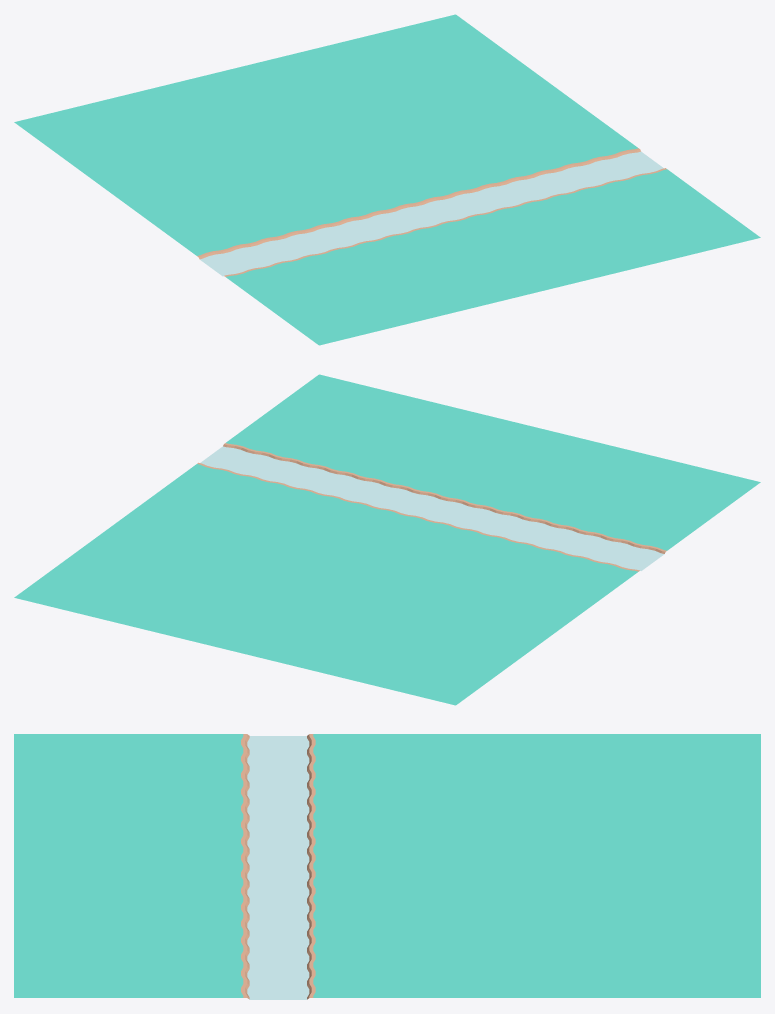
The model's file is ground_riverSide.glb.
3 views of the same model, one above another, from view 1: azimuth 30°, elevation 25°; view 2: azimuth 150°, elevation 25°; view 3: azimuth 270°, elevation 25° (orthographic). The views are drawn at different scales.
Parts seen in each view (by area): view 1: ground_riverSide; view 2: ground_riverSide; view 3: ground_riverSide.
Boxes of the visible parts, x1,y1,x2,y2 form: ground_riverSide: (14, 14, 760, 345); ground_riverSide: (14, 374, 760, 705); ground_riverSide: (14, 734, 760, 999).
Size of the model in its own units: 84.42 by 0.2638 by 101.
